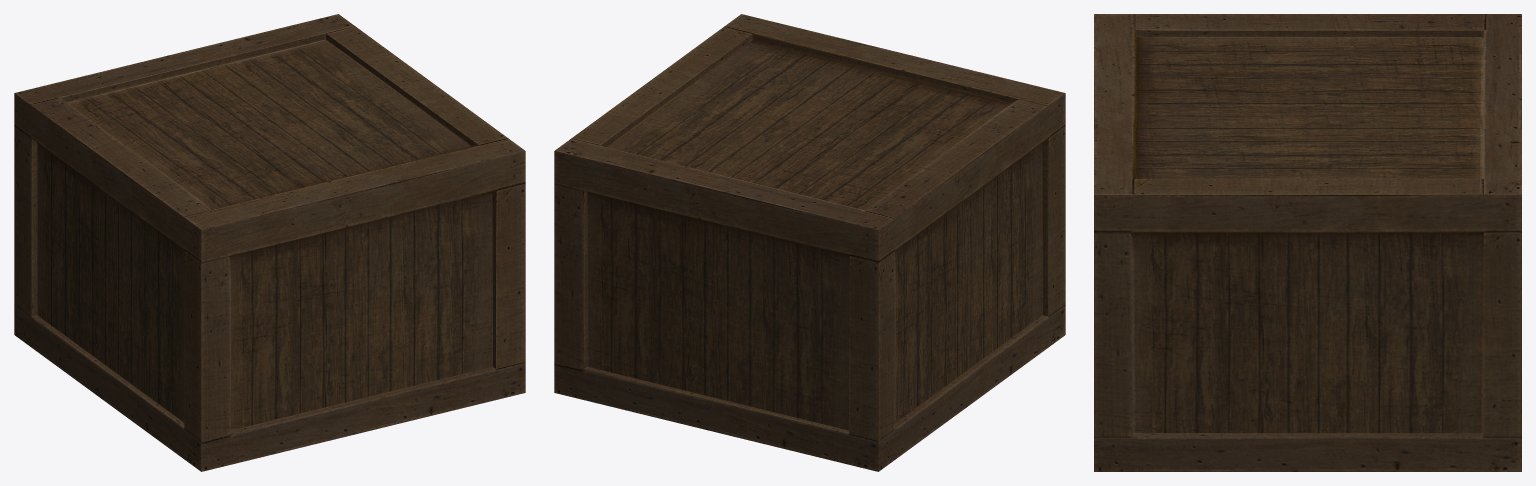
Rendered from wooden_crate_hx_6_2.obj.
The picture shows the model from 3 angles, left to right: view 1: azimuth 30°, elevation 25°; view 2: azimuth 150°, elevation 25°; view 3: azimuth 270°, elevation 25°; orthographic projection. The views are drawn at different scales.
Visible parts, largest first — view 1: wooden_crate_hx_6_2; view 2: wooden_crate_hx_6_2; view 3: wooden_crate_hx_6_2.
Boxes of the visible parts, left/top/right/bottom form: wooden_crate_hx_6_2: left=14, top=14, right=525, bottom=471; wooden_crate_hx_6_2: left=554, top=14, right=1065, bottom=471; wooden_crate_hx_6_2: left=1094, top=14, right=1521, bottom=471.
Size of the model in its own units: 1.4 by 1 by 1.4.
